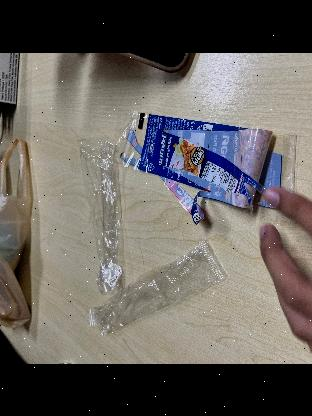Others: (118, 105, 296, 215), (89, 234, 221, 346), (80, 130, 128, 289)
